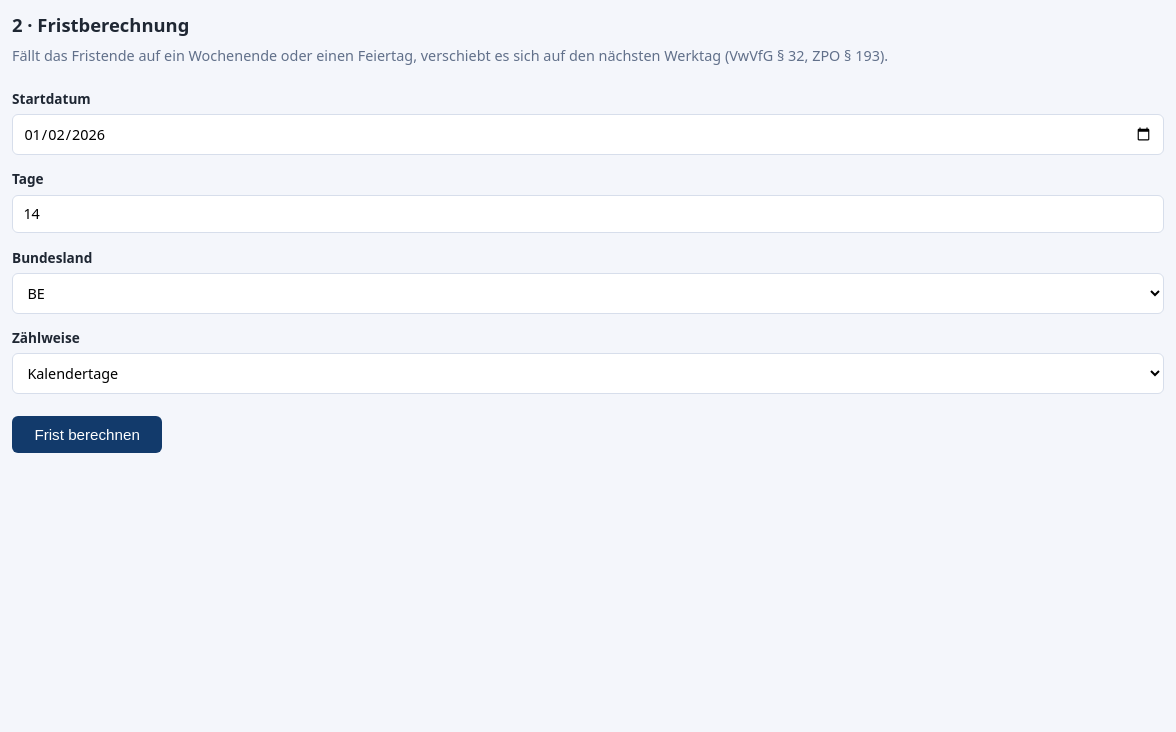
Test: DeadlinePanel › displays the shifted deadline and its reason
The image size is (1176, 732).
Step 1. Click the button "Frist berechnen" → (87,434), box left=12, top=416, right=162, bottom=453
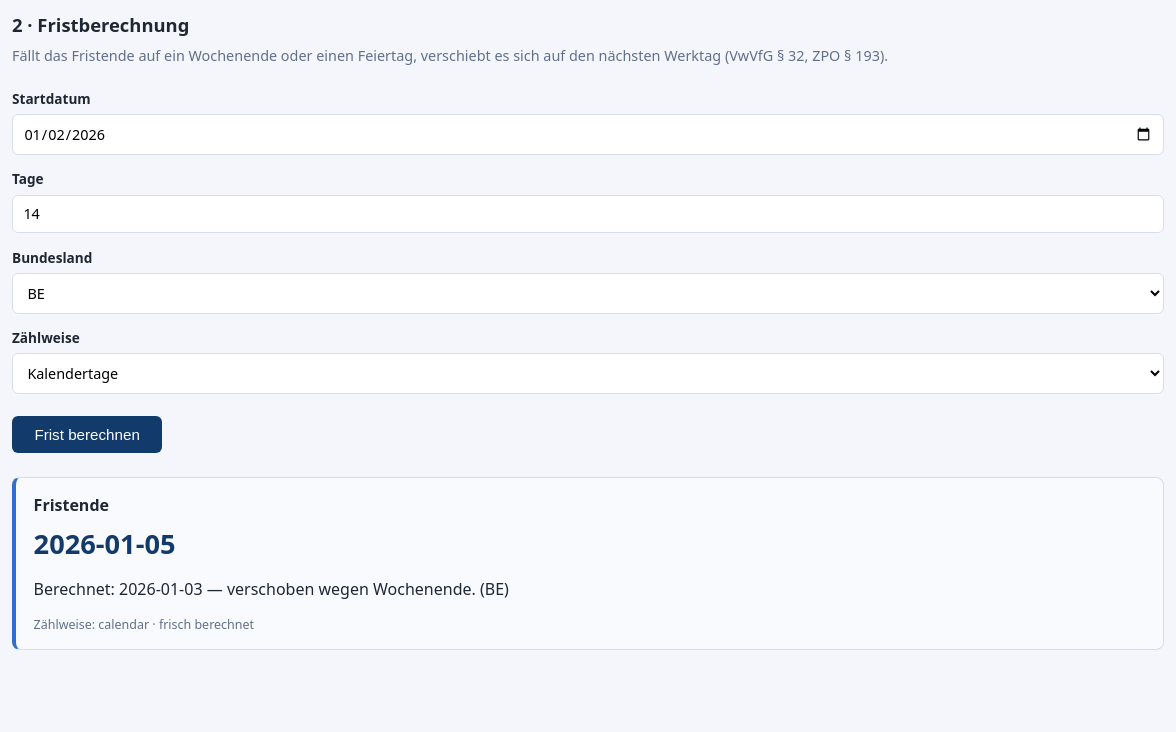
Check: the text with test id "deadline-date" reads "2026-01-05", box left=34, top=525, right=176, bottom=562
Check: the text "Berechnet: 2026-01-03 — verschoben wegen Wochenende. (BE)" is shown, box left=34, top=578, right=509, bottom=600
